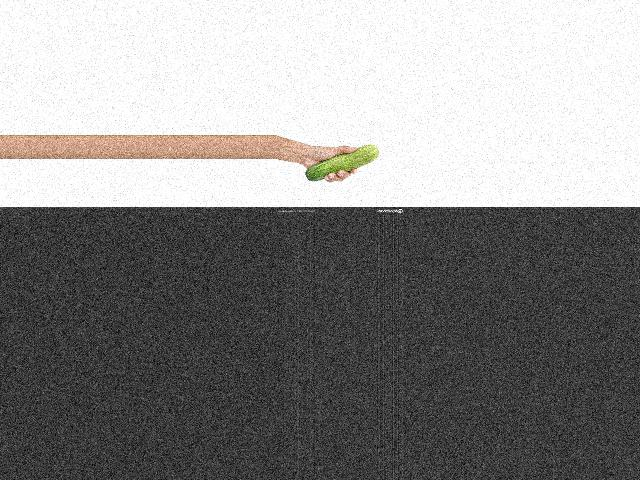cucumber: (304, 144, 378, 181)
